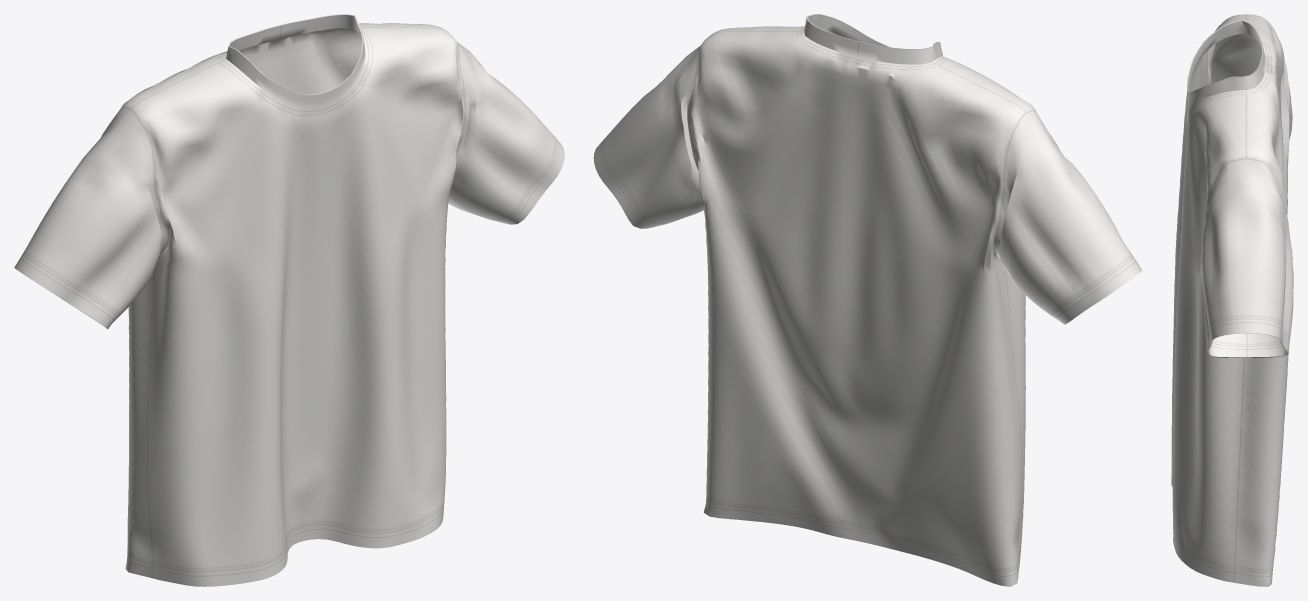
Rendered from elembo-tshirt.glb.
3 views of the same model, side by side, from view 1: azimuth 30°, elevation 25°; view 2: azimuth 150°, elevation 25°; view 3: azimuth 270°, elevation 25° (orthographic). The views are drawn at different scales.
Visible parts, largest first — view 1: TSHIRT_BODY; view 2: TSHIRT_BODY; view 3: TSHIRT_BODY.
Boxes of the visible parts, x1,y1,x2,y2 form: TSHIRT_BODY: [14, 14, 564, 586]; TSHIRT_BODY: [593, 14, 1141, 586]; TSHIRT_BODY: [1171, 14, 1293, 586].
Size of the model in its own units: 0.8238 by 0.7489 by 0.1766.
Materials: 7 (7 with a texture image).
